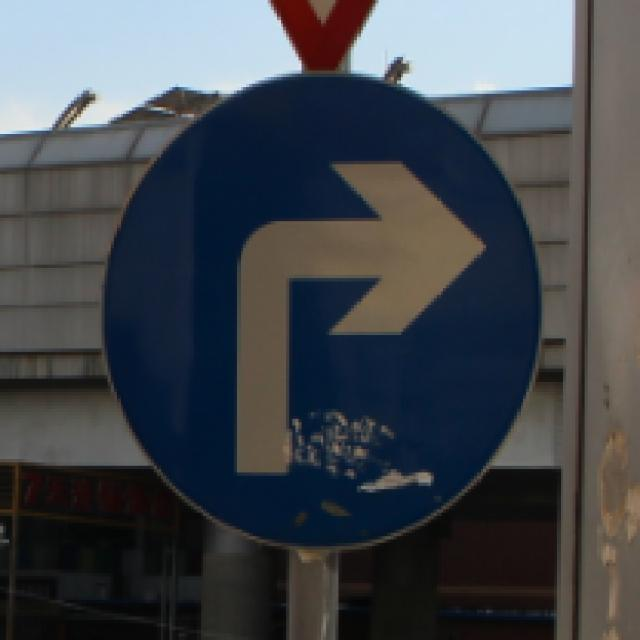Right: (108, 67, 547, 556)
